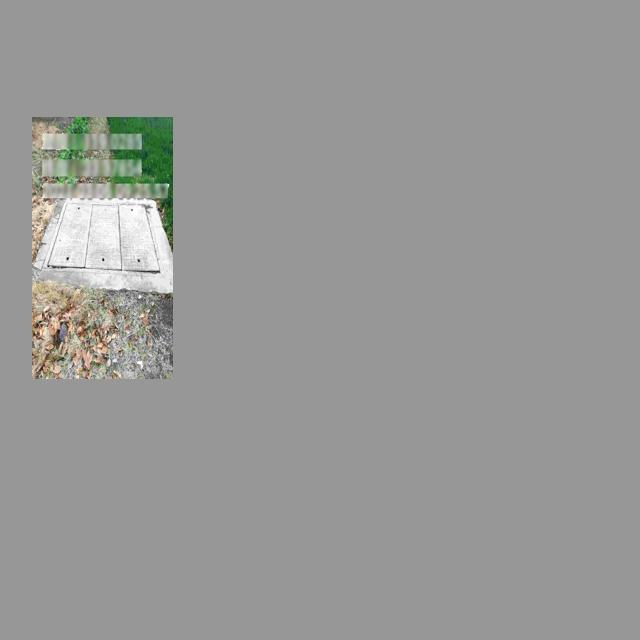good: (41, 199, 163, 276)
